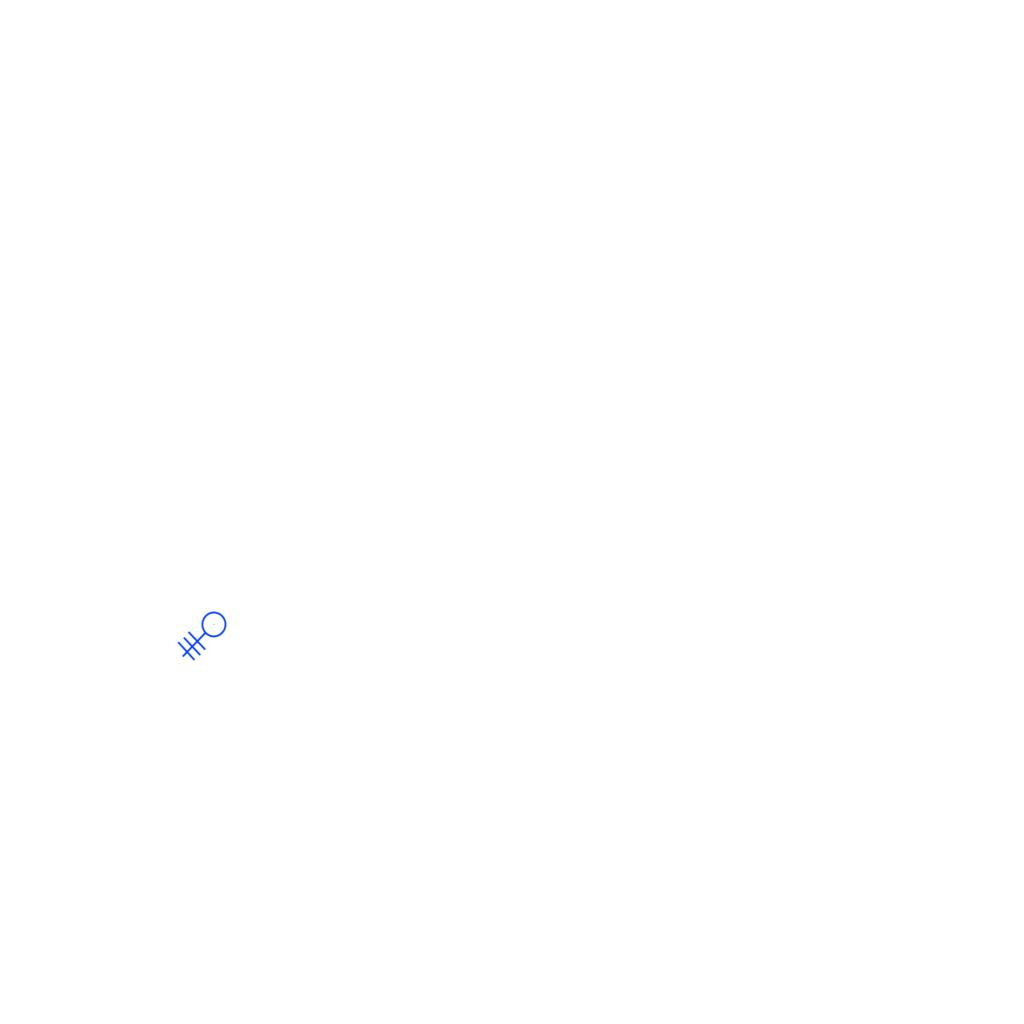Elektroanschluss_allgemein_400V_Geraeteanschlussdose_400V: (177, 611, 235, 667)
